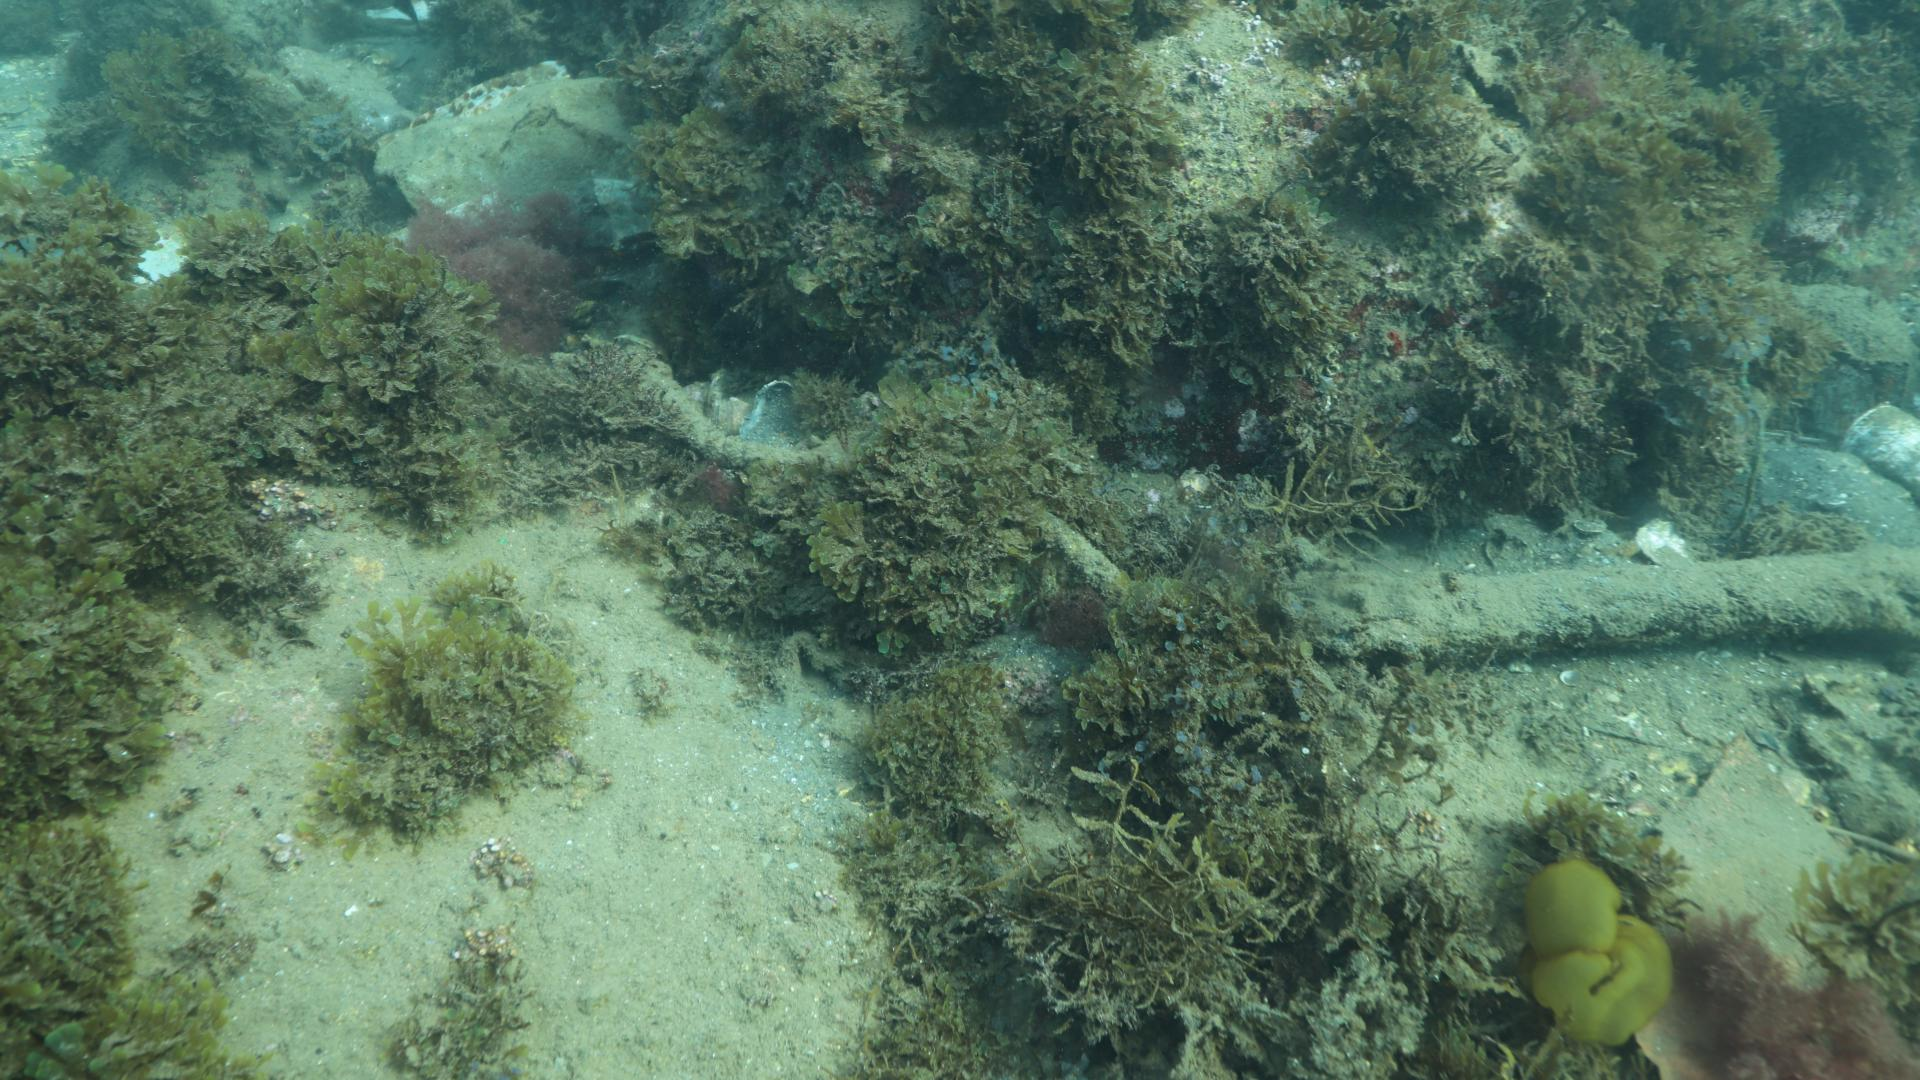rope: (645, 385, 851, 477), (1036, 510, 1116, 596)
wood: (1295, 539, 1920, 657)
